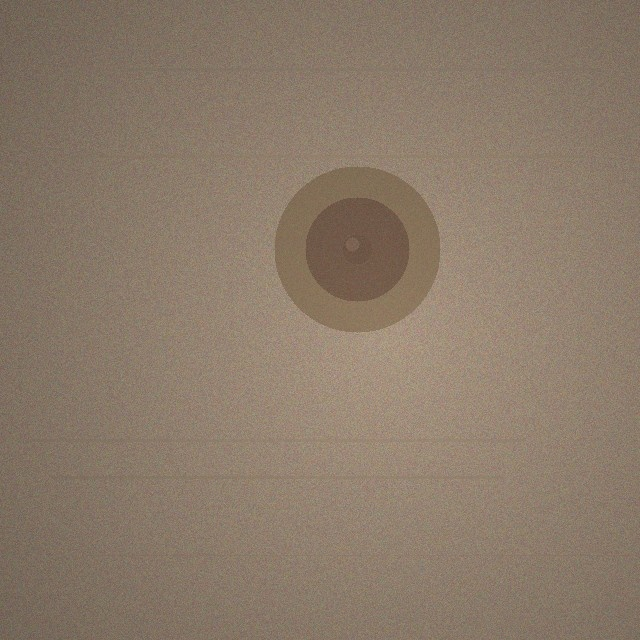good: (274, 166, 440, 332)
